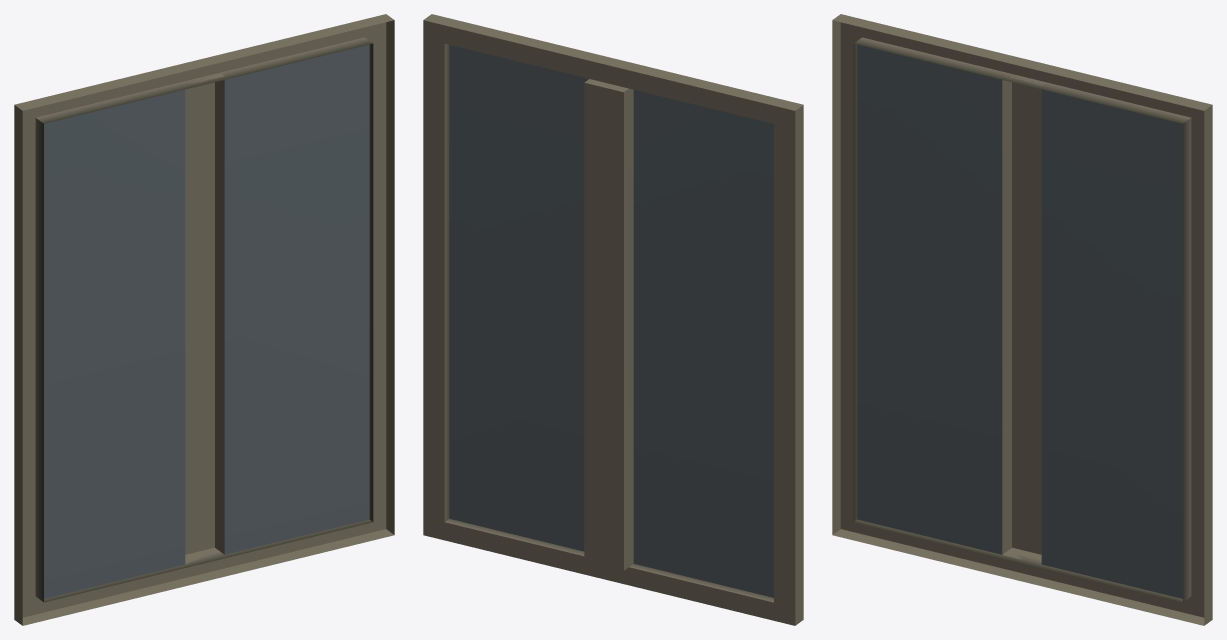
File: Flat_old_window_white_1.fbx
The picture shows the model from 3 angles, left to right: view 1: azimuth 30°, elevation 25°; view 2: azimuth 150°, elevation 25°; view 3: azimuth 330°, elevation 25°; orthographic projection.
Visible parts, largest first — view 1: Flat_old_window_white_1; view 2: Flat_old_window_white_1; view 3: Flat_old_window_white_1.
Part boxes in pixels (x1,y1,x2,y2): Flat_old_window_white_1: (14, 14, 394, 625); Flat_old_window_white_1: (423, 14, 803, 625); Flat_old_window_white_1: (832, 14, 1212, 625).
Size of the model in its own units: 2.39 by 0.1511 by 3.16.
